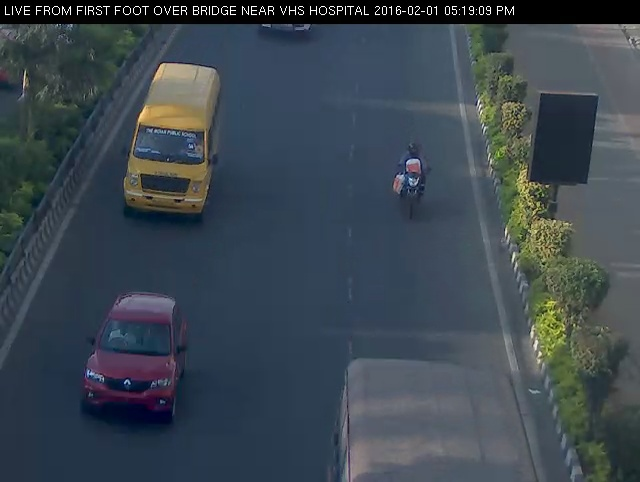Bus: (312, 341, 566, 478), (119, 52, 228, 234)
Car: (72, 280, 206, 429)
Person: (386, 131, 439, 222)
